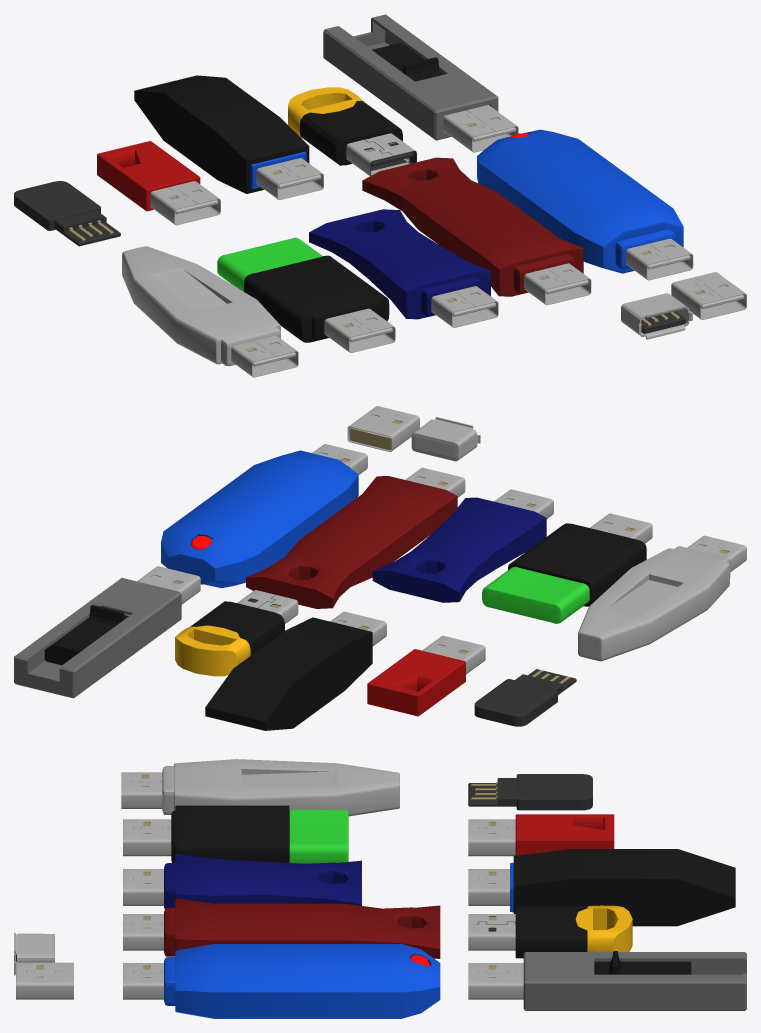
The model's file is USB_Flash_Drive.FBX.
The picture shows the model from 3 angles, top to bottom: view 1: azimuth 30°, elevation 25°; view 2: azimuth 150°, elevation 25°; view 3: azimuth 270°, elevation 25°; orthographic projection. The views are drawn at different scales.
Visible parts, largest first — view 1: 02_flash body_001, 02_flash body_002, 02_flash body_007, 02_flash body_005, 02_flash body_010, 02_flash body_011, 02_flash body_004, 02_flash body_006, 02_flash body_008, 02_flash body_012, 01_USB out_001, 01_USB in_001 (+10 smaller); view 2: 02_flash body_001, 02_flash body_002, 02_flash body_007, 02_flash body_005, 02_flash body_010, 02_flash body_011, 02_flash body_004, 02_flash body_006, 02_flash body_008, 02_flash body_012, 01_USB out_001, 01_USB in_001 (+10 smaller); view 3: 02_flash body_001, 02_flash body_007, 02_flash body_005, 02_flash body_002, 02_flash body_010, 02_flash body_004, 02_flash body_011, 02_flash body_006, 02_flash body_008, 02_flash body_012, 01_USB out_001, 02_USB out_005 (+10 smaller).
Boxes of the visible parts, x1,y1,x2,y2 form: 02_flash body_001: (477,129,683,273); 02_flash body_002: (362,157,583,296); 02_flash body_007: (134,75,309,193); 02_flash body_005: (323,14,498,140); 02_flash body_010: (122,246,280,366); 02_flash body_011: (309,209,490,319); 02_flash body_004: (217,237,389,342); 02_flash body_006: (288,87,402,165); 02_flash body_008: (97,141,200,211); 02_flash body_012: (14,181,100,230); 01_USB out_001: (671,272,746,319); 01_USB in_001: (621,293,692,339); 02_flash body_001: (161,450,358,588); 02_flash body_002: (246,476,457,608); 02_flash body_007: (205,617,372,730); 02_flash body_005: (14,578,181,698); 02_flash body_010: (578,546,730,661); 02_flash body_011: (372,497,546,602); 02_flash body_004: (482,523,646,623); 02_flash body_006: (175,601,284,676); 02_flash body_008: (367,649,465,716); 02_flash body_012: (474,679,557,726); 01_USB out_001: (347,406,419,451); 01_USB in_001: (411,417,480,461); 02_flash body_001: (164,944,440,1018); 02_flash body_007: (510,849,735,926); 02_flash body_005: (523,951,746,1010); 02_flash body_002: (164,898,440,958); 02_flash body_010: (162,759,399,816); 02_flash body_004: (171,805,348,863); 02_flash body_011: (164,853,361,909); 02_flash body_006: (515,905,632,958); 02_flash body_008: (515,814,614,855); 02_flash body_012: (516,774,592,810); 01_USB out_001: (16,962,73,999); 02_USB out_005: (468,963,523,999).
Size of the model in its own units: 144 by 14.64 by 190.
